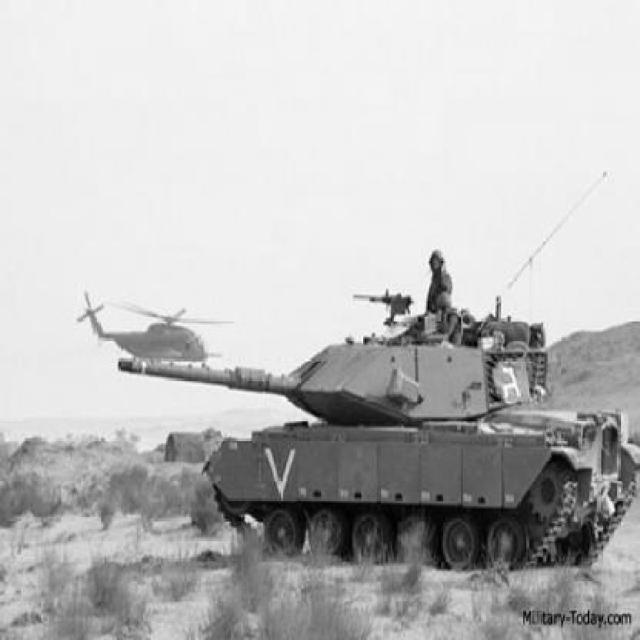Person: (426, 250, 453, 312), (436, 290, 464, 346)
Tank: (118, 287, 639, 570)
